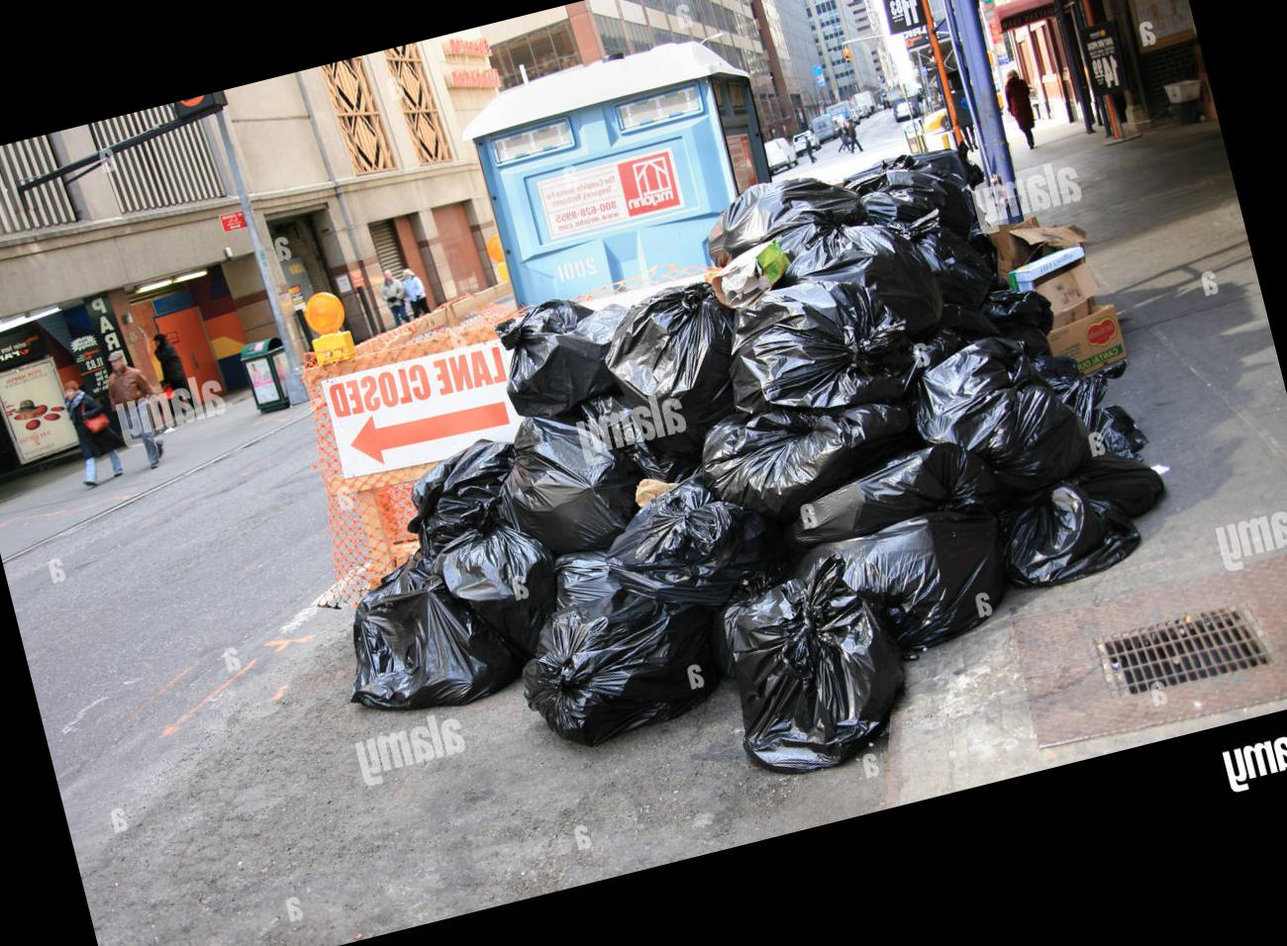trash: (525, 477, 784, 744), (732, 556, 905, 772), (795, 511, 1006, 650), (914, 337, 1092, 493), (730, 280, 917, 415), (702, 402, 912, 522), (605, 281, 735, 458), (351, 576, 522, 710), (789, 443, 1008, 547), (502, 417, 644, 555), (780, 224, 944, 337), (435, 525, 556, 659), (498, 299, 626, 417), (1002, 483, 1140, 587), (408, 439, 516, 558), (854, 168, 974, 236), (914, 225, 993, 308), (1073, 452, 1165, 516)
